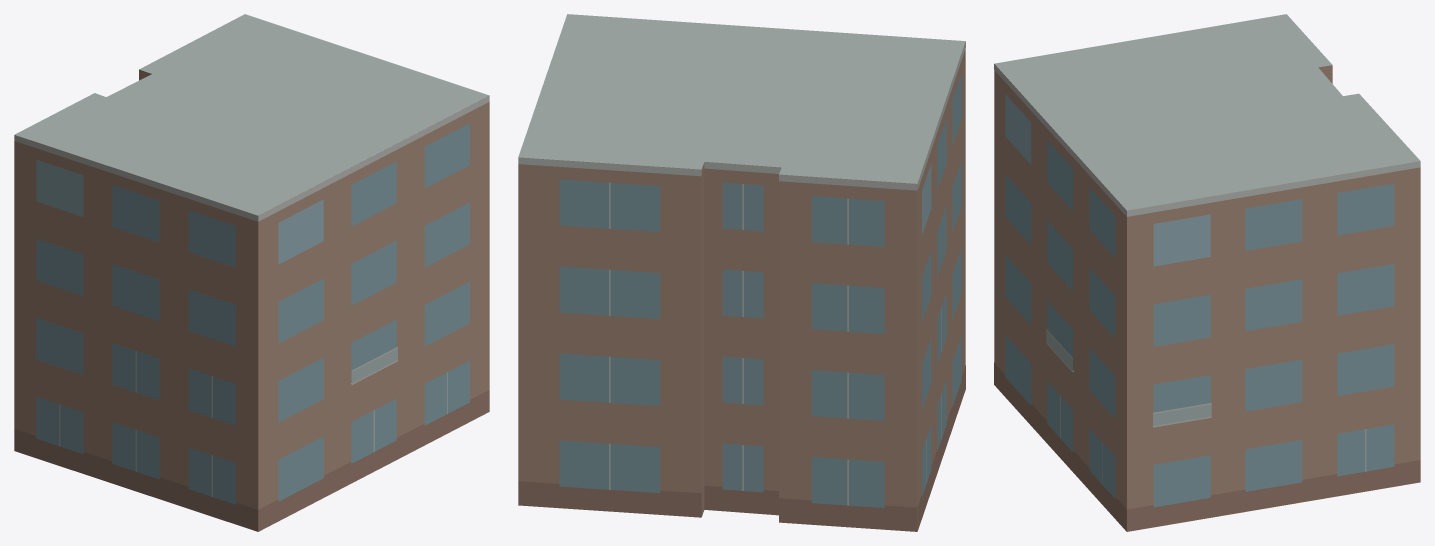
Rendered from survey-upis-32949153.glb.
3 renders of one model, left to right at view 1: azimuth 30°, elevation 25°; view 2: azimuth 150°, elevation 25°; view 3: azimuth 270°, elevation 25°, orthographic. The views are drawn at different scales.
Visible parts, largest first — view 1: survey-upis-32949153.tmp; view 2: survey-upis-32949153.tmp; view 3: survey-upis-32949153.tmp.
Boxes of the visible parts, x1,y1,x2,y2 form: survey-upis-32949153.tmp: (14,14,489,531); survey-upis-32949153.tmp: (518,14,965,531); survey-upis-32949153.tmp: (994,14,1420,531).
Size of the model in its own units: 16.62 by 12.65 by 15.24.
